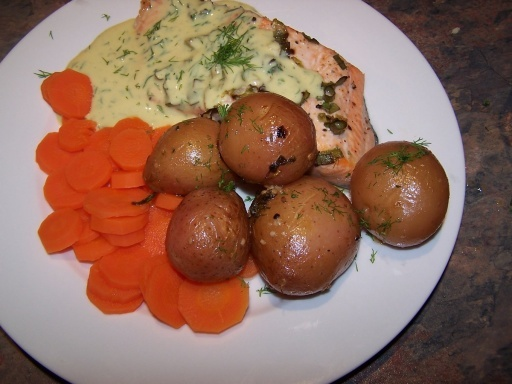background: (27, 0, 359, 200)
